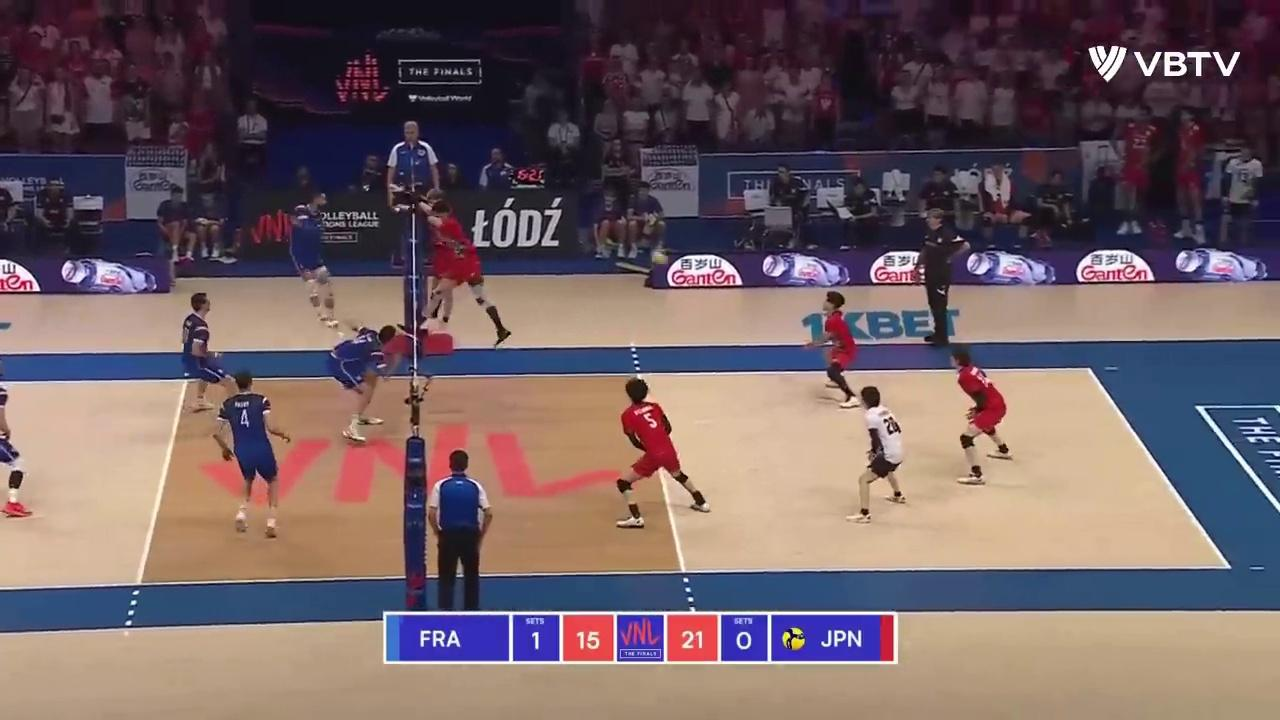ball: (653, 249, 671, 265)
